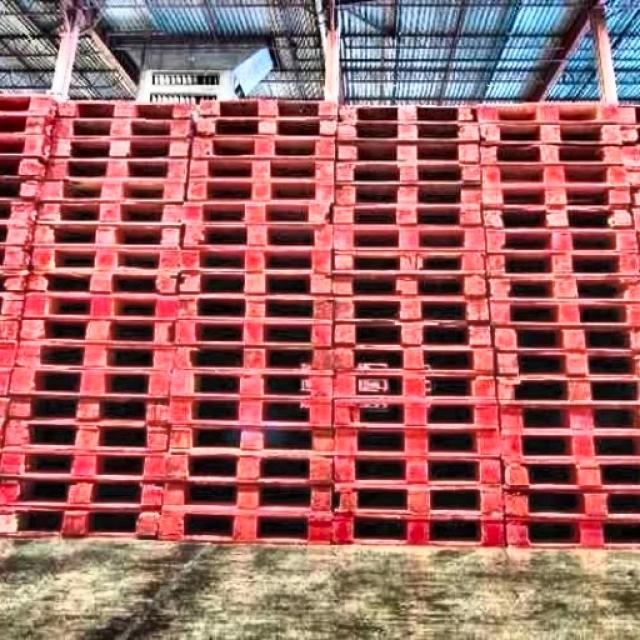non-igps: (2, 360, 179, 405), (2, 386, 175, 432), (328, 511, 512, 554), (154, 507, 336, 548), (328, 477, 508, 518), (26, 216, 185, 259), (158, 478, 336, 515), (0, 506, 168, 544), (161, 450, 338, 486), (0, 415, 176, 451), (32, 194, 190, 233), (8, 337, 182, 372), (14, 315, 182, 351), (27, 239, 187, 276), (0, 447, 174, 481), (328, 455, 507, 488), (329, 425, 507, 458), (328, 342, 500, 376), (164, 394, 336, 428), (17, 289, 184, 324), (328, 370, 502, 403), (499, 512, 640, 552), (328, 397, 503, 429), (167, 423, 338, 455), (170, 342, 340, 374), (47, 112, 198, 148), (22, 266, 184, 299), (166, 370, 338, 401), (53, 94, 201, 130), (494, 456, 640, 492), (0, 477, 169, 508), (473, 93, 623, 127), (328, 318, 497, 348), (474, 113, 627, 146), (496, 401, 640, 436), (38, 157, 193, 189), (175, 268, 335, 299), (171, 318, 336, 348), (34, 176, 192, 207), (328, 223, 491, 253), (495, 430, 638, 464), (498, 486, 640, 520), (46, 134, 198, 165), (489, 324, 640, 354), (333, 118, 484, 148), (479, 226, 640, 254), (492, 376, 640, 406), (328, 247, 492, 274), (328, 273, 492, 300), (179, 221, 337, 249), (476, 204, 639, 231), (485, 299, 640, 327), (173, 296, 337, 322), (484, 274, 640, 301), (184, 178, 340, 205), (327, 296, 495, 321), (174, 247, 335, 273), (330, 158, 485, 185), (480, 252, 640, 278), (328, 204, 488, 230), (492, 351, 640, 379), (178, 200, 334, 226), (474, 141, 624, 168), (187, 135, 339, 160), (476, 184, 634, 208), (329, 140, 486, 164), (194, 113, 341, 138), (328, 180, 487, 203), (474, 164, 635, 186), (334, 101, 481, 125), (194, 94, 341, 117), (186, 159, 340, 180), (0, 132, 56, 168), (0, 88, 61, 121), (0, 153, 52, 186), (0, 113, 59, 141), (0, 176, 47, 210), (0, 242, 38, 275), (0, 198, 43, 224), (0, 221, 41, 248), (0, 314, 27, 350), (0, 332, 24, 372), (0, 292, 29, 322), (0, 271, 33, 296), (611, 102, 640, 126), (617, 122, 640, 150), (0, 366, 15, 402), (621, 143, 640, 170)
